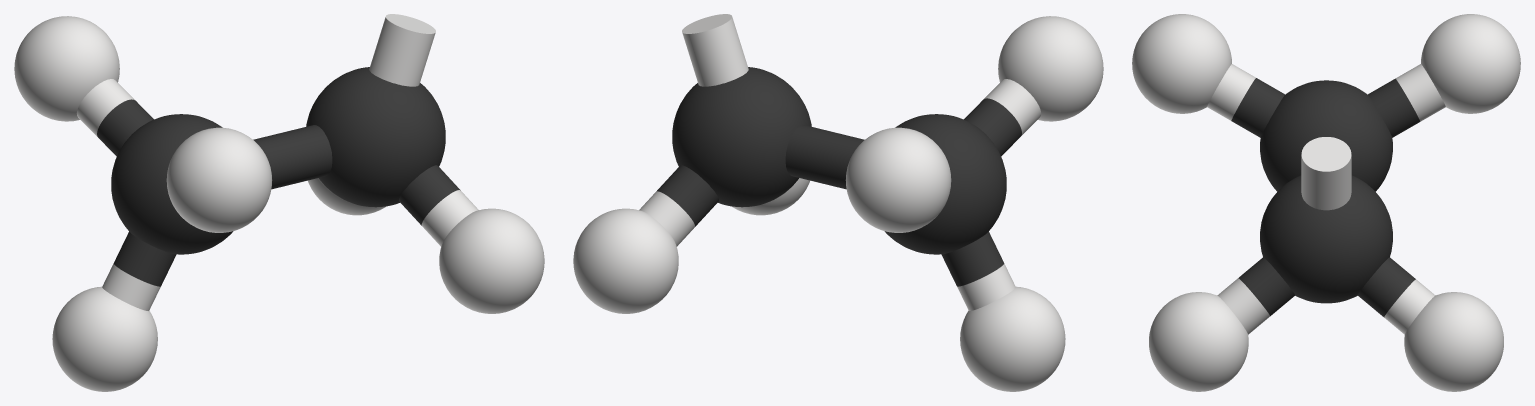
3 renders of one model, left to right at view 1: azimuth 30°, elevation 25°; view 2: azimuth 150°, elevation 25°; view 3: azimuth 270°, elevation 25°, orthographic. The views are drawn at different scales.
Parts seen in each view (by area): view 1: 对象004; view 2: 对象004; view 3: 对象004.
Part boxes in pixels (bbox=[...]): 对象004: bbox=[14, 14, 544, 391]; 对象004: bbox=[573, 14, 1103, 391]; 对象004: bbox=[1132, 14, 1520, 391].
Size of the model in its own units: 26.96 by 18.88 by 23.32.
2 materials, 2 textured.
